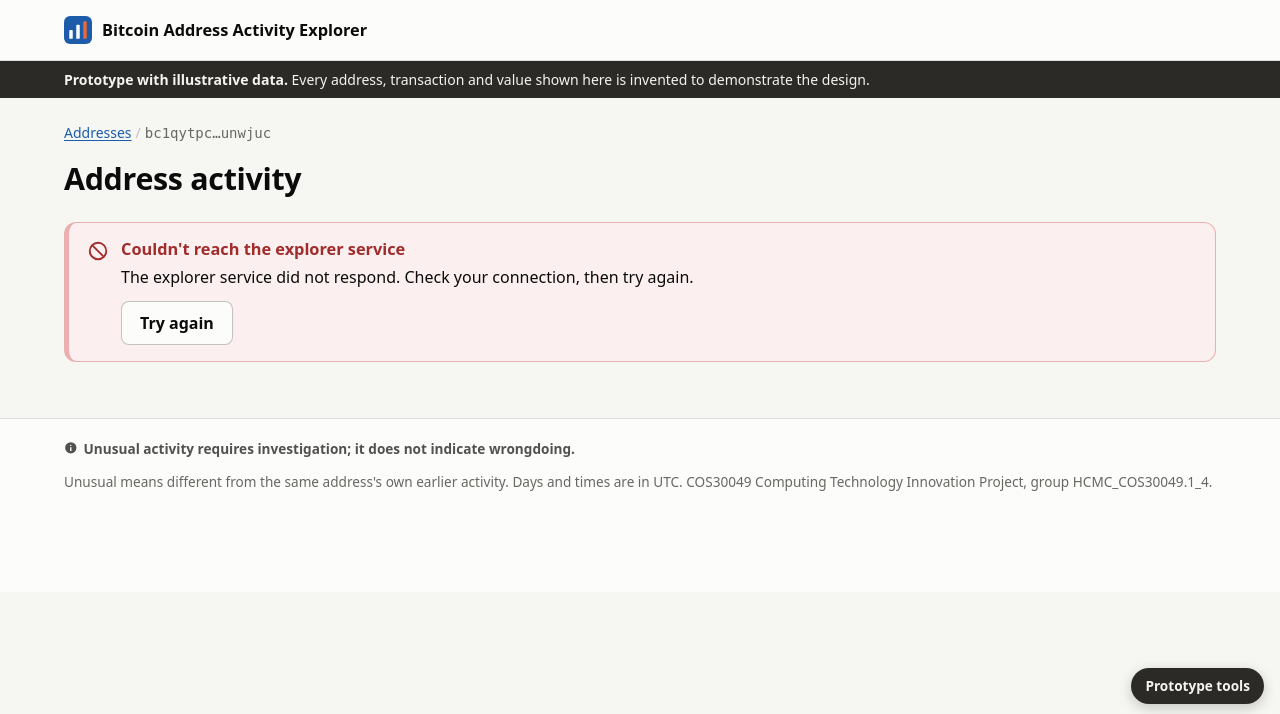
Test case: FR-05 states › network failure: a clear message and a working retry
This screenshot has width=1280, height=714.
expect the heading "Couldn't reach the explorer service" is shown: met, box [121,238,405,260]
What coordinates should you click on to do the following:
click the button "Try again"
I would click on:
 (177, 323)
Its box is [121,301,233,345].
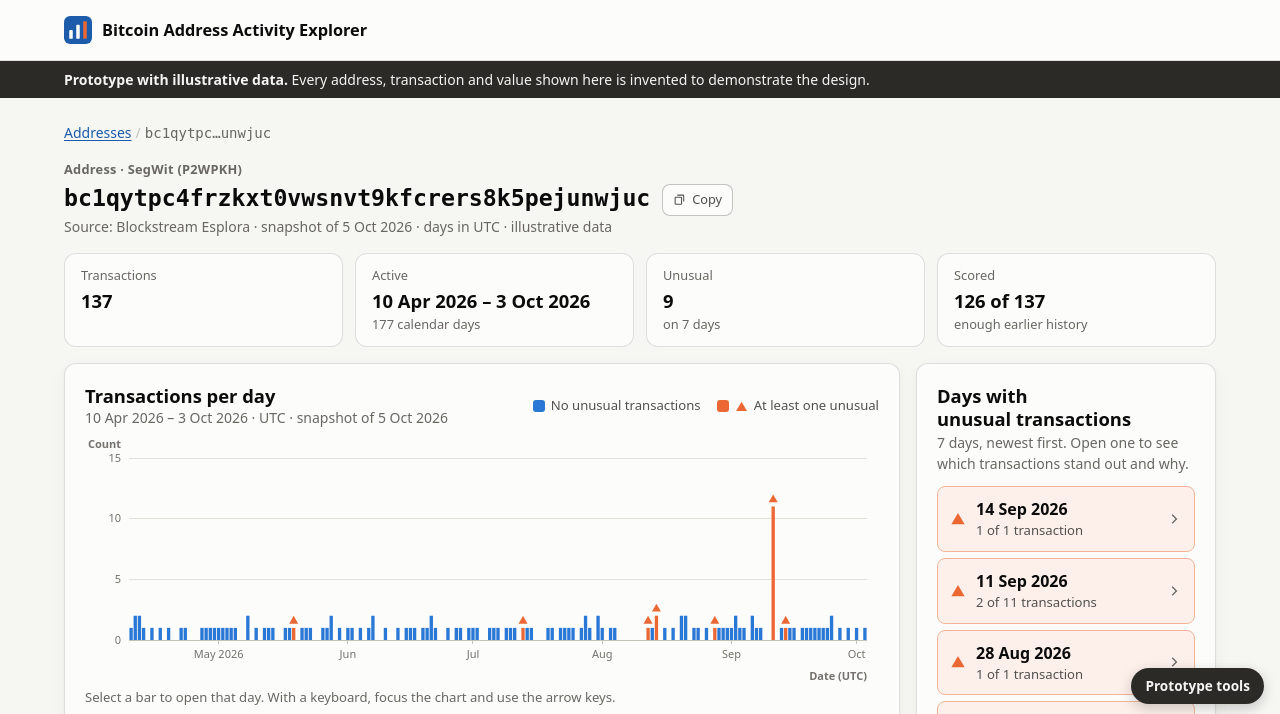
expect the heading "Transactions per day" is shown: met, box [85,383,275,408]
